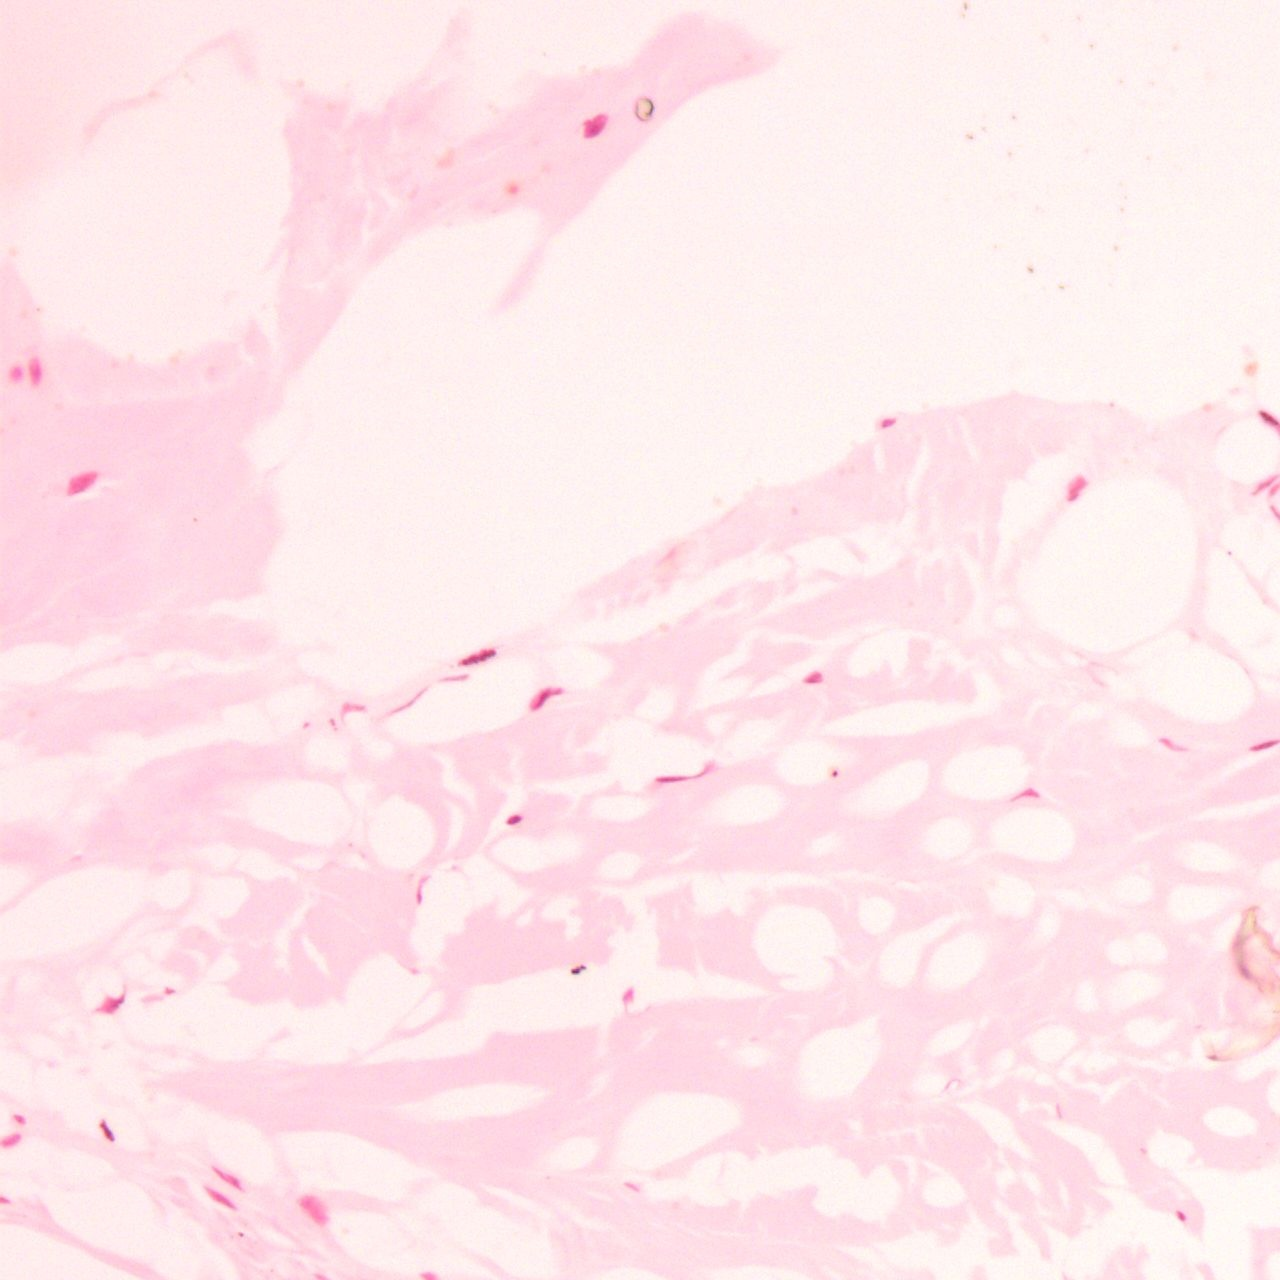dust: (567, 961, 588, 978), (828, 764, 840, 777), (238, 1231, 243, 1237)
nucleus-AC: (651, 760, 721, 791), (87, 980, 137, 1023), (523, 676, 568, 715), (295, 1189, 333, 1230), (576, 105, 614, 144), (61, 464, 102, 499), (454, 641, 501, 672), (209, 1160, 248, 1196), (1060, 468, 1094, 506), (200, 1182, 239, 1213), (1007, 782, 1046, 808), (96, 1117, 117, 1145), (1157, 736, 1189, 753), (26, 356, 42, 386), (503, 810, 526, 829), (416, 874, 430, 905), (11, 1109, 28, 1126), (878, 415, 897, 430), (8, 365, 23, 382), (802, 670, 822, 683), (1175, 1208, 1190, 1225), (164, 986, 177, 998)
